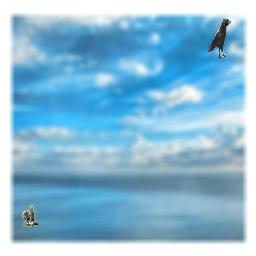Crow: (207, 19, 231, 59)
Woodpecker: (22, 204, 38, 227)
